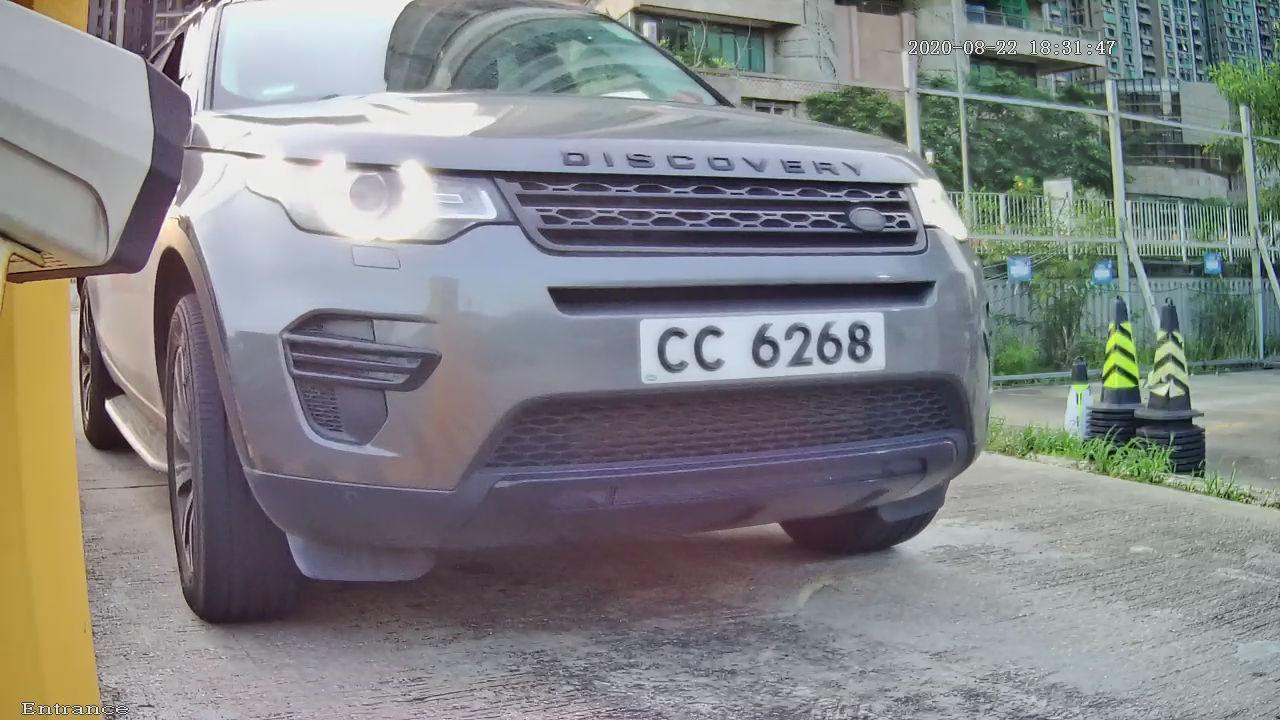Car: (41, 23, 1092, 608)
License Plate: (584, 278, 924, 406)
